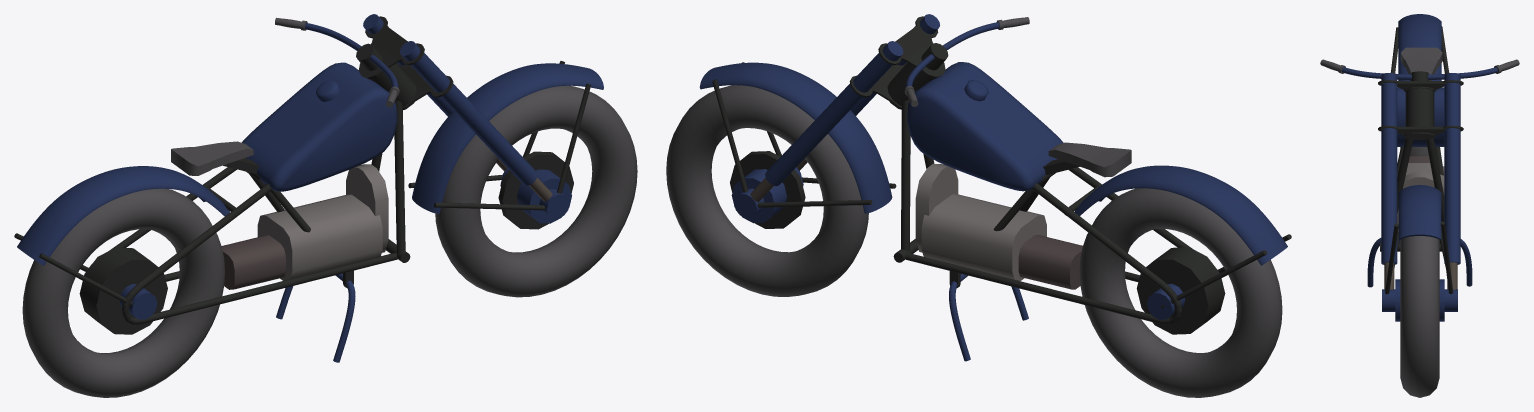
The model's file is moto_1.gltf.
3 views of the same model, side by side, from view 1: azimuth 30°, elevation 25°; view 2: azimuth 150°, elevation 25°; view 3: azimuth 270°, elevation 25° (orthographic). The views are drawn at different scales.
Parts seen in each view (by area): view 1: Torus.001, Torus, Surface, Cube, Cube.059, Cube.060, Cylinder.001, Cylinder.012, Cube.004, Cylinder.004, Cylinder, Cube.006 (+15 smaller); view 2: Torus.001, Torus, Surface, Cube, Cube.059, Cube.060, Cylinder.001, Cylinder.016, Cube.004, Cylinder.009, Cylinder, Cube.006 (+15 smaller); view 3: Torus, Cylinder.016, Cylinder.012, Cube.059, Cube.060, Cylinder.002, Surface, Cube.006, Cylinder.025, Cylinder.231, Cylinder.029, Cylinder.008 (+14 smaller).
Part boxes in pixels (x1=…): Torus.001: x1=22, y1=188, x2=224, y2=397; Torus: x1=435, y1=85, x2=637, y2=297; Surface: x1=242, y1=62, x2=397, y2=191; Cube: x1=257, y1=194, x2=382, y2=280; Cube.059: x1=412, y1=63, x2=603, y2=214; Cube.060: x1=17, y1=166, x2=229, y2=265; Cylinder.001: x1=79, y1=247, x2=167, y2=334; Cylinder.012: x1=400, y1=41, x2=537, y2=185; Cube.004: x1=221, y1=235, x2=285, y2=289; Cylinder.004: x1=141, y1=253, x2=397, y2=324; Cylinder: x1=498, y1=151, x2=573, y2=229; Cube.006: x1=171, y1=141, x2=253, y2=175; Torus.001: x1=1079, y1=188, x2=1282, y2=397; Torus: x1=666, y1=85, x2=868, y2=296; Surface: x1=907, y1=62, x2=1063, y2=191; Cube: x1=921, y1=194, x2=1046, y2=280; Cube.059: x1=699, y1=62, x2=892, y2=213; Cube.060: x1=1074, y1=165, x2=1287, y2=265; Cylinder.001: x1=1136, y1=247, x2=1225, y2=334; Cylinder.016: x1=765, y1=41, x2=903, y2=185; Cube.004: x1=1018, y1=235, x2=1082, y2=289; Cylinder.009: x1=905, y1=253, x2=1162, y2=324; Cylinder: x1=730, y1=151, x2=805, y2=228; Cube.006: x1=1048, y1=142, x2=1131, y2=177; Torus: x1=1400, y1=236, x2=1439, y2=397; Cylinder.016: x1=1444, y1=73, x2=1460, y2=264; Cylinder.012: x1=1381, y1=73, x2=1397, y2=264; Cube.059: x1=1398, y1=185, x2=1441, y2=243; Cube.060: x1=1398, y1=14, x2=1441, y2=80; Cylinder.002: x1=1405, y1=88, x2=1434, y2=126; Surface: x1=1397, y1=87, x2=1444, y2=146; Cube.006: x1=1400, y1=47, x2=1442, y2=80; Cylinder.025: x1=1342, y1=67, x2=1497, y2=79; Cylinder.231: x1=1367, y1=238, x2=1472, y2=287; Cylinder.029: x1=1382, y1=289, x2=1457, y2=311; Cylinder.008: x1=1426, y1=138, x2=1444, y2=221.
Bounding box in the file's own units: 7.77 × 3.64 × 2.55.
